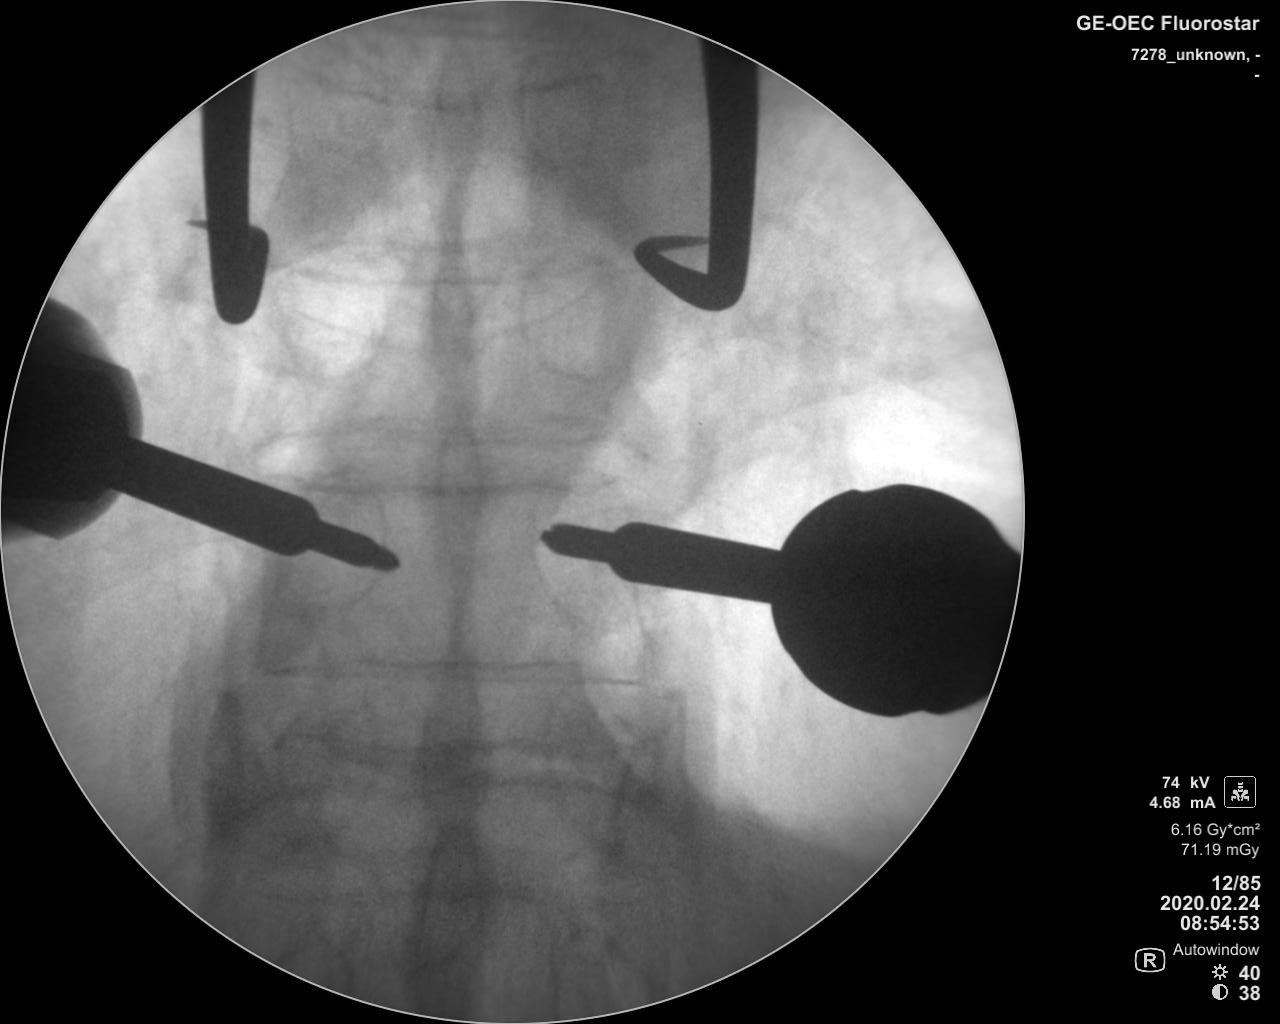eyes: (529, 478, 646, 634), (514, 243, 625, 382), (281, 485, 389, 616), (280, 260, 385, 387)
line: (245, 646, 662, 696), (273, 251, 611, 296), (265, 415, 628, 456), (285, 469, 637, 495)
nose: (415, 632, 495, 821), (411, 822, 487, 971), (425, 415, 488, 592), (421, 47, 485, 203), (419, 232, 487, 373)
